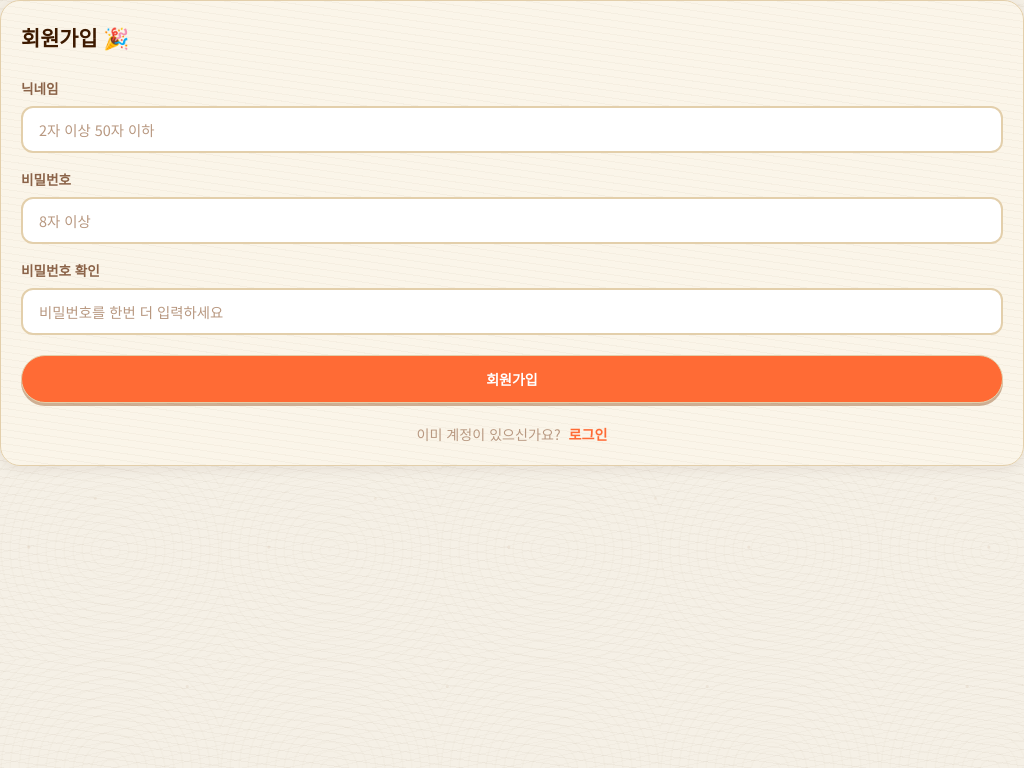
회원가입 페이지 › 비밀번호가 7자이면 에러 메시지가 표시되고 제출되지 않는다
The width and height of the screenshot is (1024, 768).
Type "validnick" into the field with placeholder "2자 이상 50자 이하" at (512, 130), box [21,106,1003,153]
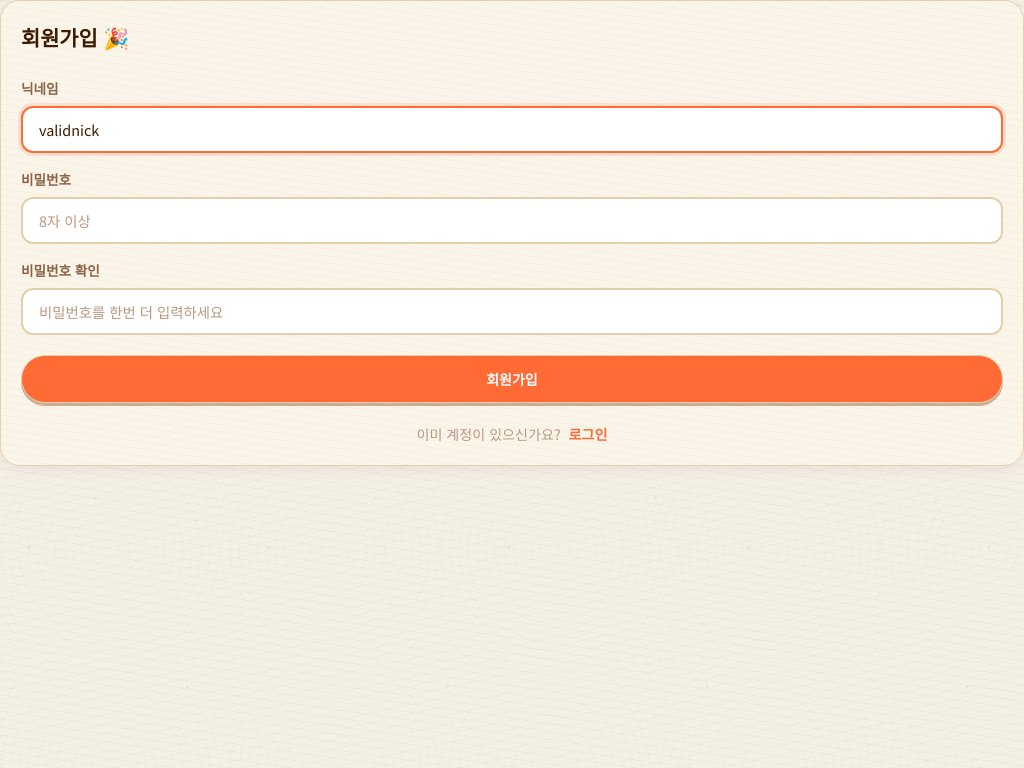
Type "1234567" into the password field with placeholder "8자 이상" at (512, 220), box [21,197,1003,244]
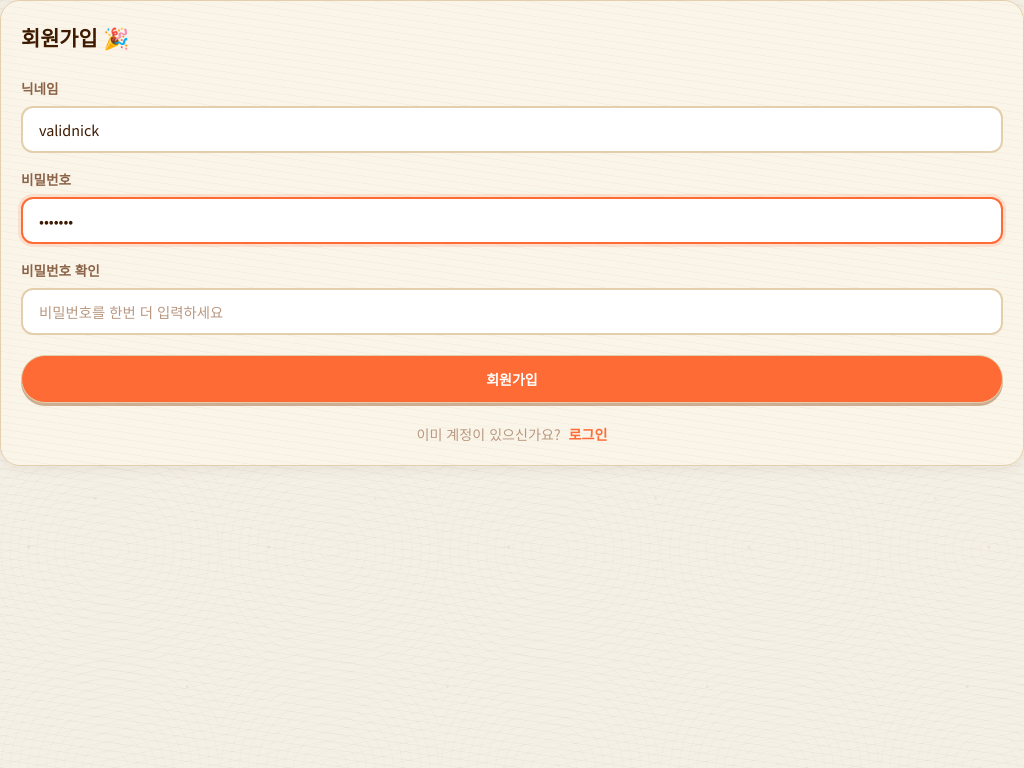
Type "1234567" into the password field with placeholder "비밀번호를 한번 더 입력하세요" at (512, 311), box [21,288,1003,334]
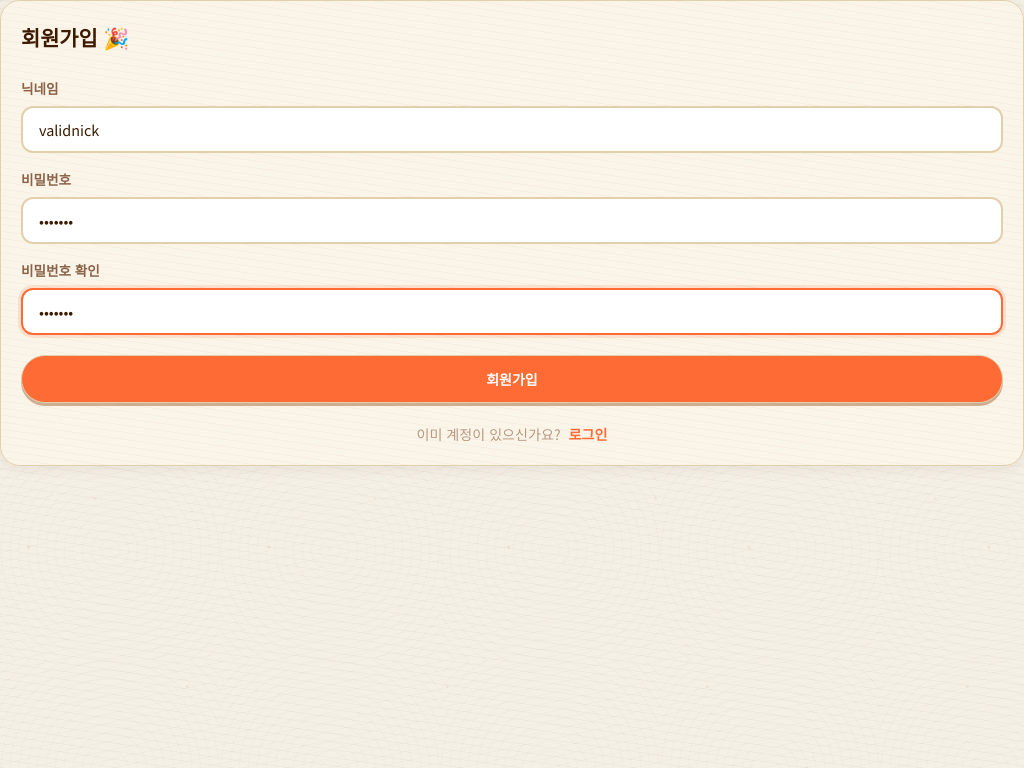
Click the button "회원가입" at (512, 379), box [21,355,1003,403]
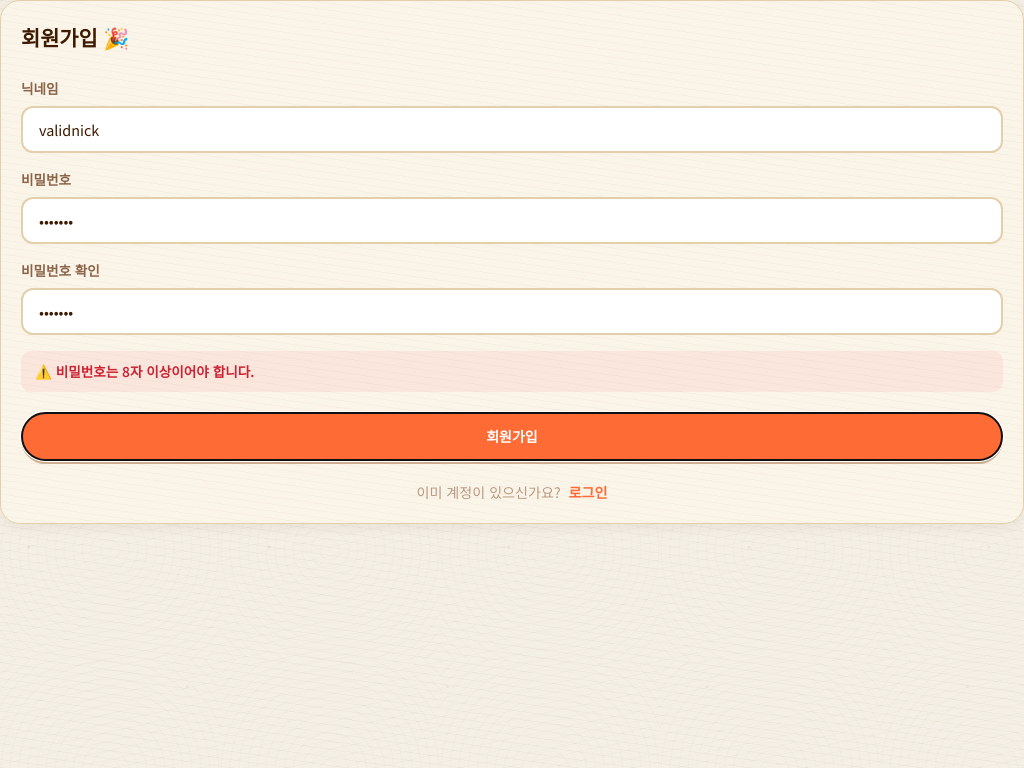
Check: the text "⚠️ 비밀번호는 8자 이상이어야 합니다." is shown, box [21,351,1003,392]
